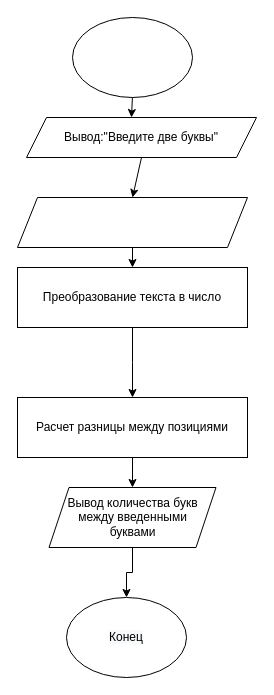
This 274x695 diagram has some shape labels left out. Each missing label, with the box of its shape:
Ввод:a и b: (16, 196, 248, 248)
Начало: (72, 16, 192, 98)
